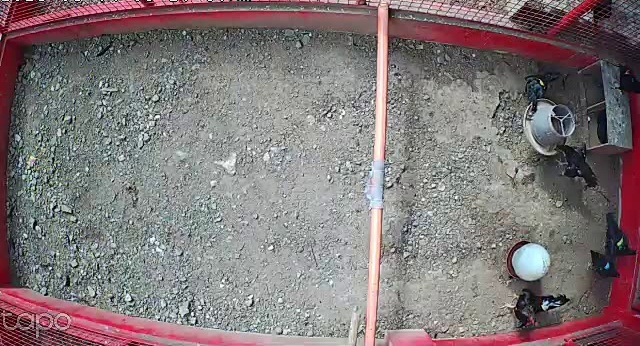Chicken: (554, 140, 603, 191), (522, 66, 558, 119), (600, 212, 639, 257), (582, 248, 621, 281)
Rooster: (494, 284, 567, 328)
Saddle_Color_Blue: (604, 261, 611, 269)
Saddle_Color_Yellow: (538, 77, 544, 89)
Saddle_Color_YellowGreen: (617, 236, 625, 251)
